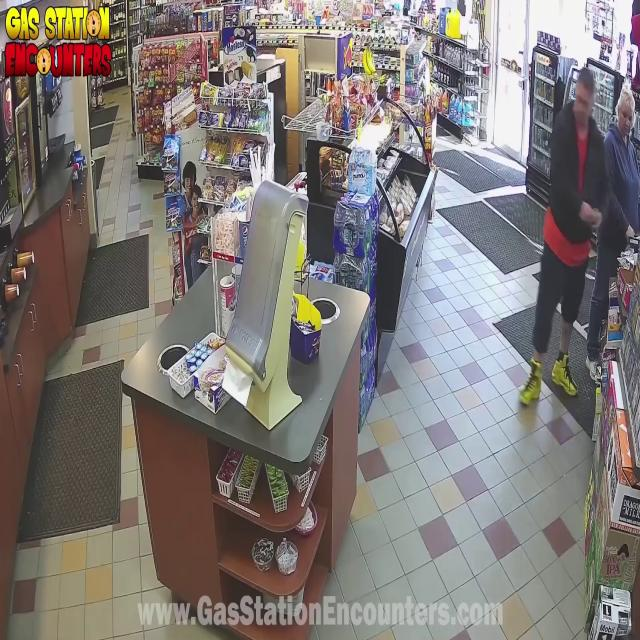normal: (518, 66, 615, 425), (614, 77, 640, 226)
